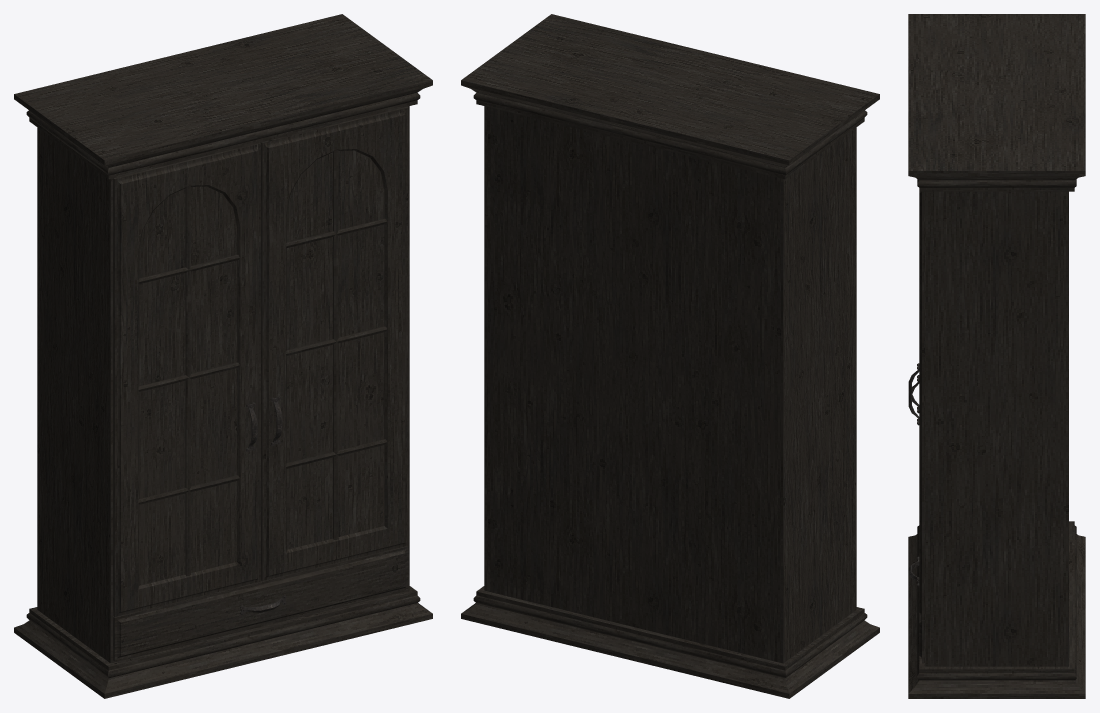
The model's file is wardrobe_mp_1.glb.
The picture shows the model from 3 angles, left to right: view 1: azimuth 30°, elevation 25°; view 2: azimuth 150°, elevation 25°; view 3: azimuth 270°, elevation 25°; orthographic projection. The views are drawn at different scales.
Parts seen in each view (by area): view 1: wardrobe_mp_1, wardrobe_mp_1_drawer; view 2: wardrobe_mp_1; view 3: wardrobe_mp_1, wardrobe_mp_1_drawer.
Boxes of the visible parts, x1,y1,x2,y2 form: wardrobe_mp_1: (14,14,432,698); wardrobe_mp_1_drawer: (113,546,408,661); wardrobe_mp_1: (461,14,879,698); wardrobe_mp_1: (908,14,1085,698); wardrobe_mp_1_drawer: (908,556,924,662).
Bounding box in the file's own units: 1.34 × 2.1 × 0.64.
Materials: 2 (2 with a texture image).
